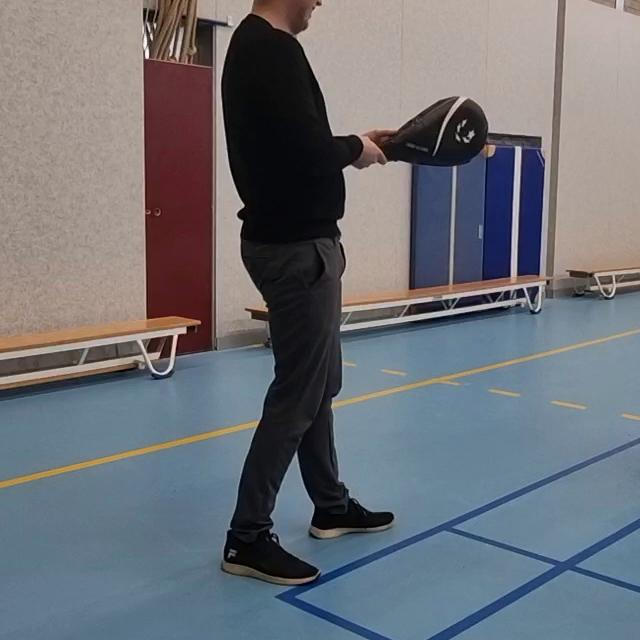paddle: (375, 94, 492, 171)
